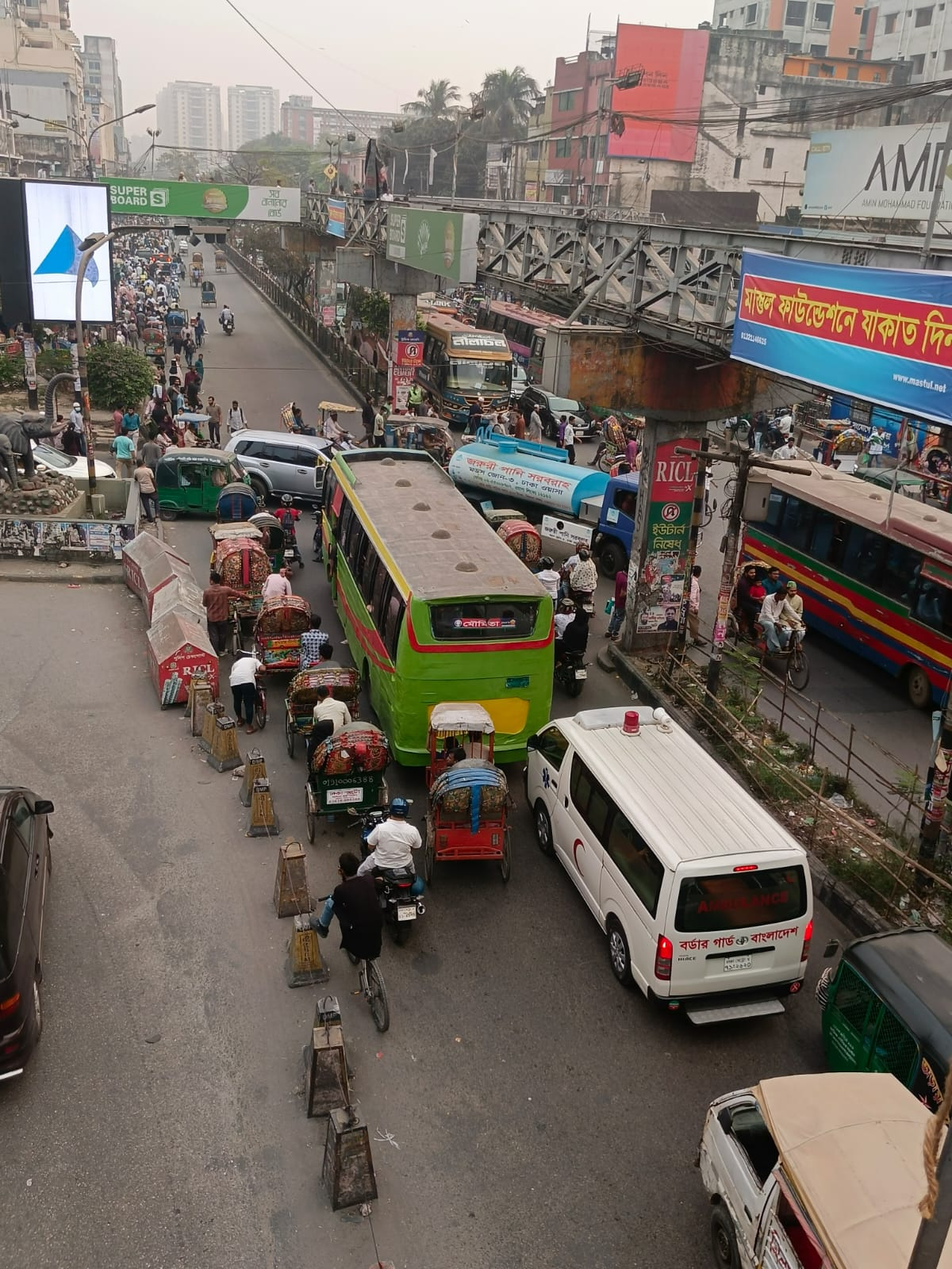Ambulance: (537, 672, 829, 1024)
Bikes: (307, 854, 417, 995), (358, 805, 442, 927), (209, 638, 280, 729), (272, 490, 324, 576), (218, 301, 247, 342)
Bus: (324, 438, 555, 765), (728, 442, 952, 714), (415, 301, 523, 430)
Leguna: (696, 1073, 952, 1269)
Truck: (452, 421, 686, 585)
auto-ricksaw: (206, 480, 410, 829), (421, 704, 523, 867), (736, 540, 820, 671), (481, 490, 552, 580), (277, 401, 381, 458), (597, 407, 653, 469), (819, 413, 876, 469), (160, 304, 198, 344), (193, 276, 224, 318), (211, 243, 243, 280), (187, 246, 213, 275)
cng: (812, 912, 952, 1082), (171, 430, 255, 531)
private car: (226, 422, 356, 507), (5, 408, 129, 491)
